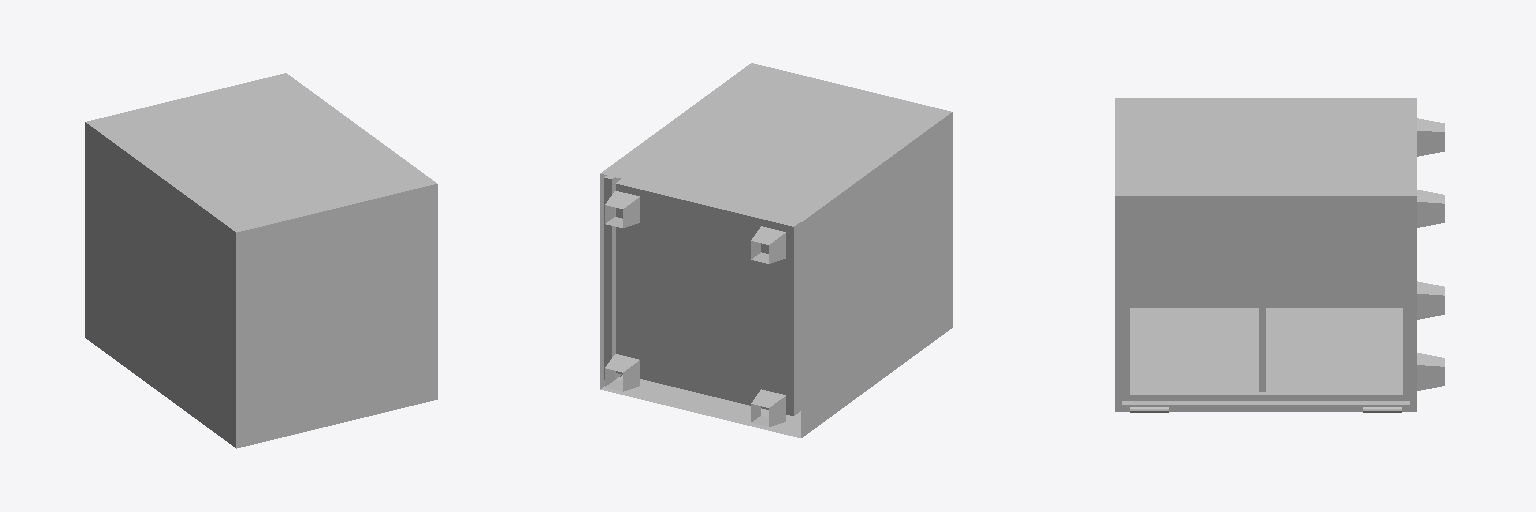
The model's file is am_safe.obj.
3 renders of one model, left to right at view 1: azimuth 30°, elevation 25°; view 2: azimuth 150°, elevation 25°; view 3: azimuth 270°, elevation 25°, orthographic.
Visible parts, largest first — view 1: am_safe; view 2: am_safe; view 3: am_safe.
Boxes of the visible parts, x1=… form: am_safe: x1=85, y1=73, x2=437, y2=448; am_safe: x1=600, y1=63, x2=952, y2=437; am_safe: x1=1115, y1=98, x2=1444, y2=412.
Size of the model in its own units: 25.7 by 26.14 by 36.